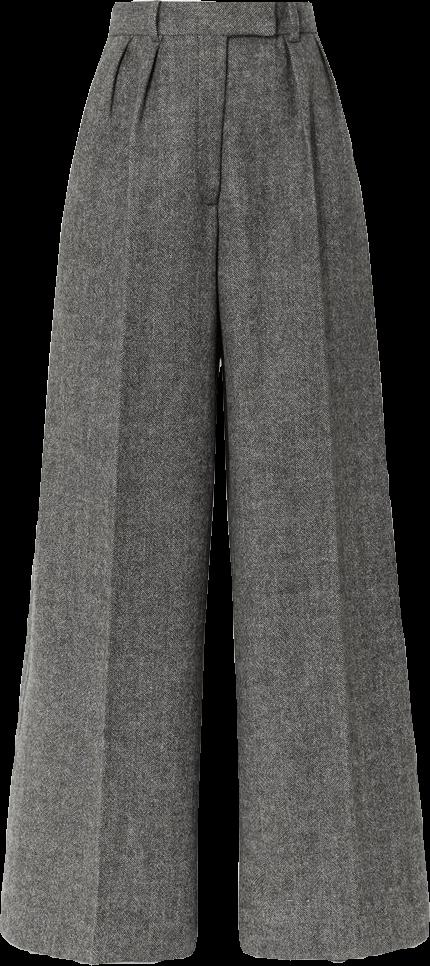Hemline: (238, 928, 429, 964), (1, 931, 203, 963)
Pantleg: (0, 0, 228, 963), (220, 1, 429, 962)
Waistline: (104, 26, 321, 43), (108, 0, 315, 14)
